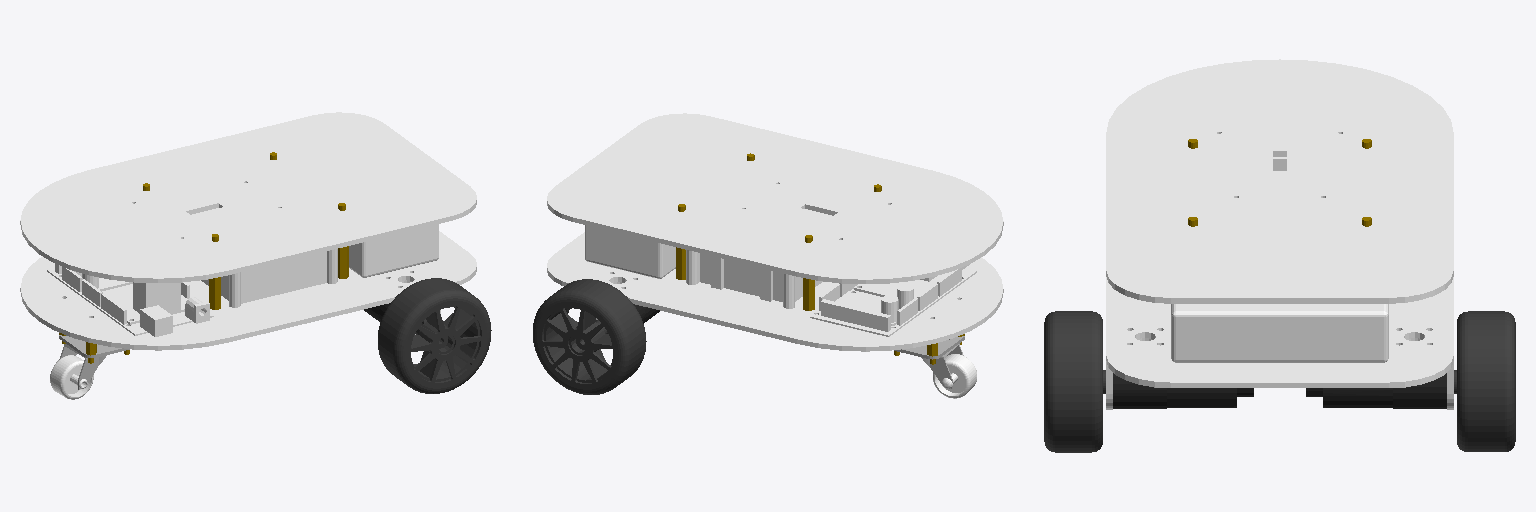
robot.urdf — qcl:
<?xml version="1.0" ?>
<robot
  name="qcl">
  <link
    name="base_link">
    <inertial>
      <origin
        xyz="0.04521 -0.00067608 0.013241"
        rpy="0 0 0" />
      <mass
        value="0.71026" />
      <inertia
        ixx="0.0008804"
        ixy="-4.168E-05"
        ixz="-4.9519E-05"
        iyy="0.0022413"
        iyz="2.1648E-06"
        izz="0.0029791" />
    </inertial>
    <visual>
      <origin
        xyz="0 0 0"
        rpy="0 0 0" />
      <geometry>
        <mesh
          filename="package://lesson3/meshes/base_link.STL" />
      </geometry>
      <material
        name="">
        <color
          rgba="1 1 1 0.32" />
      </material>
    </visual>
    <collision>
      <origin
        xyz="0 0 0"
        rpy="0 0 0" />
      <geometry>
        <mesh
          filename="package://lesson3/meshes/base_link.STL" />
      </geometry>
    </collision>
  </link>
  
 <link name="kinect_link">
        <visual>
            <origin xyz="0.0050061 -0.00014713 -0.0014635" rpy="0 0 1.5708"/>
            <geometry>
                <mesh filename="package://lesson3/meshes/kinect.dae" />
            </geometry>
        </visual>
    </link>

    <joint name="laser_joint" type="fixed">
        <origin xyz="-0.022 0 0.078" rpy="0 0 0"/>
        <parent link="base_link"/>
        <child link="kinect_link"/>
    </joint>

<!--<link
    name="rplidar_link">
    <inertial>
      <origin
        xyz="0.0050061 -0.00014713 -0.0014635"
        rpy="0 0 0" />
      <mass
        value="0.30656" />
      <inertia
        ixx="0.00015429"
        ixy="3.4962E-07"
        ixz="1.4789E-05"
        iyy="0.00021402"
        iyz="-7.8352E-07"
        izz="0.00026079" />
    </inertial>
    <visual>
      <origin
        xyz="0 0 0"
        rpy="0 0 0" />
      <geometry>
        <mesh
          filename="package://lesson3/meshes/rplidar_link.STL" />
      </geometry>
      <material
        name="">
        <color
          rgba="0.49412 0.49412 0.49412 1" />
      </material>
    </visual>
    <collision>
      <origin
        xyz="0 0 0"
        rpy="0 0 0" />
      <geometry>
        <mesh
          filename="package://lesson3/meshes/rplidar_link.STL" />
      </geometry>
    </collision>
  </link>
  <joint
    name="rplidar_link_joint"
    type="fixed">
    <origin
      xyz="-0.022 0 0.078"
      rpy="-6.123E-17 0 0" />
    <parent
      link="base_link" />
    <child
      link="rplidar_link" />
    <axis
      xyz="0 0 0" />
  </joint>-->


  <link
    name="left_motor_link">
    <inertial>
      <origin
        xyz="-0.0044525 -4.3264E-07 1.3878E-17"
        rpy="0 0 0" />
      <mass
        value="0.20548" />
      <inertia
        ixx="1.507E-05"
        ixy="3.3294E-09"
        ixz="1.3383E-21"
        iyy="7.099E-05"
        iyz="1.3162E-25"
        izz="7.099E-05" />
    </inertial>
    <visual>
      <origin
        xyz="0 0 0"
        rpy="0 0 0" />
      <geometry>
        <mesh
          filename="package://lesson3/meshes/left_motor_link.STL" />
      </geometry>
      <material
        name="">
        <color
          rgba="0.2 0.2 0.2 1" />
      </material>
    </visual>
    <collision>
      <origin
        xyz="0 0 0"
        rpy="0 0 0" />
      <geometry>
        <mesh
          filename="package://lesson3/meshes/left_motor_link.STL" />
      </geometry>
    </collision>
  </link>
  <joint
    name="left_motor_link_joint"
    type="fixed">
    <origin
      xyz="0.08 -0.052 -0.02"
      rpy="-1.5708 -6.123E-17 -1.5708" />
    <parent
      link="base_link" />
    <child
      link="left_motor_link" />
    <axis
      xyz="0 0 0" />
  </joint>
  <link
    name="right_motor_link">
    <inertial>
      <origin
        xyz="-0.0044525 4.3259E-07 -6.8314E-09"
        rpy="0 0 0" />
      <mass
        value="0.20548" />
      <inertia
        ixx="1.507E-05"
        ixy="-3.329E-09"
        ixz="5.0684E-11"
        iyy="7.099E-05"
        iyz="-2.0772E-12"
        izz="7.099E-05" />
    </inertial>
    <visual>
      <origin
        xyz="0 0 0"
        rpy="0 0 0" />
      <geometry>
        <mesh
          filename="package://lesson3/meshes/right_motor_link.STL" />
      </geometry>
      <material
        name="">
        <color
          rgba="0.2 0.2 0.2 1" />
      </material>
    </visual>
    <collision>
      <origin
        xyz="0 0 0"
        rpy="0 0 0" />
      <geometry>
        <mesh
          filename="package://lesson3/meshes/right_motor_link.STL" />
      </geometry>
    </collision>
  </link>
  <joint
    name="right_motor_link_joint"
    type="fixed">
    <origin
      xyz="0.08 0.052 -0.02"
      rpy="1.5864 -3.261E-10 1.5708" />
    <parent
      link="base_link" />
    <child
      link="right_motor_link" />
    <axis
      xyz="0 0 0" />
  </joint>
  <link
    name="left_wheel_link">
    <inertial>
      <origin
        xyz="-1.4851E-09 0.015015 2.4566E-10"
        rpy="0 0 0" />
      <mass
        value="0.075908" />
      <inertia
        ixx="2.6258E-05"
        ixy="-9.3219E-13"
        ixz="-2.8752E-13"
        iyy="4.396E-05"
        iyz="1.6286E-13"
        izz="2.6267E-05" />
    </inertial>
    <visual>
      <origin
        xyz="0 0 0"
        rpy="0 0 0" />
      <geometry>
        <mesh
          filename="package://lesson3/meshes/left_wheel_link.STL" />
      </geometry>
      <material
        name="">
        <color
          rgba="0.29412 0.29412 0.29412 1" />
      </material>
    </visual>
    <collision>
      <origin
        xyz="0 0 0"
        rpy="0 0 0" />
      <geometry>
        <mesh
          filename="package://lesson3/meshes/left_wheel_link.STL" />
      </geometry>
    </collision>
  </link>
  <joint
    name="left_wheel_link_joint"
    type="continuous">
    <origin
      xyz="0.08 -0.0795 -0.02"
      rpy="7.1976E-17 0.55346 -3.1416" />
    <parent
      link="base_link" />
    <child
      link="left_wheel_link" />
    <axis
      xyz="0 1 0" />
  </joint>
  <link
    name="right_wheel_link">
    <inertial>
      <origin
        xyz="5.2978E-10 0.015015 -1.4089E-09"
        rpy="0 0 0" />
      <mass
        value="0.075908" />
      <inertia
        ixx="2.6264E-05"
        ixy="3.2505E-13"
        ixz="3.9746E-09"
        iyy="4.396E-05"
        iyz="-8.8873E-13"
        izz="2.626E-05" />
    </inertial>
    <visual>
      <origin
        xyz="0 0 0"
        rpy="0 0 0" />
      <geometry>
        <mesh
          filename="package://lesson3/meshes/right_wheel_link.STL" />
      </geometry>
      <material
        name="">
        <color
          rgba="0.29412 0.29412 0.29412 1" />
      </material>
    </visual>
    <collision>
      <origin
        xyz="0 0 0"
        rpy="0 0 0" />
      <geometry>
        <mesh
          filename="package://lesson3/meshes/right_wheel_link.STL" />
      </geometry>
    </collision>
  </link>
  <joint
    name="right_wheel_link_joint"
    type="continuous">
    <origin
      xyz="0.08 0.0795 -0.02"
      rpy="-6.228E-17 0.18385 -1.1386E-17" />
    <parent
      link="base_link" />
    <child
      link="right_wheel_link" />
    <axis
      xyz="0 -1 0" />
  </joint>
  <link
    name="upper_pillar_link">
    <inertial>
      <origin
        xyz="-0.0036279 0.021701 -0.05825"
        rpy="0 0 0" />
      <mass
        value="0.043866" />
      <inertia
        ixx="8.162E-05"
        ixy="-2.2701E-21"
        ixz="-4.5145E-06"
        iyy="0.00014979"
        iyz="6.5106E-21"
        izz="8.2197E-05" />
    </inertial>
    <visual>
      <origin
        xyz="0 0 0"
        rpy="0 0 0" />
      <geometry>
        <mesh
          filename="package://lesson3/meshes/upper_pillar_link.STL" />
      </geometry>
      <material
        name="">
        <color
          rgba="0.64706 0.51373 0 1" />
      </material>
    </visual>
    <collision>
      <origin
        xyz="0 0 0"
        rpy="0 0 0" />
      <geometry>
        <mesh
          filename="package://lesson3/meshes/upper_pillar_link.STL" />
      </geometry>
    </collision>
  </link>
  <joint
    name="upper_pillar_link_joint"
    type="fixed">
    <origin
      xyz="0.05 -0.04 0.003"
      rpy="1.5708 4.1893E-17 0.75349" />
    <parent
      link="base_link" />
    <child
      link="upper_pillar_link" />
    <axis
      xyz="0 0 0" />
  </joint>
  <link
    name="second_base_link">
    <inertial>
      <origin
        xyz="0.0068684 0.0015 1.2737E-17"
        rpy="0 0 0" />
      <mass
        value="0.12289" />
      <inertia
        ixx="0.00024204"
        ixy="2.3431E-22"
        ixz="-2.2464E-20"
        iyy="0.00085621"
        iyz="-9.8075E-24"
        izz="0.00061435" />
    </inertial>
    <visual>
      <origin
        xyz="0 0 0"
        rpy="0 0 0" />
      <geometry>
        <mesh
          filename="package://lesson3/meshes/second_base_link.STL" />
      </geometry>
      <material
        name="">
        <color
          rgba="1 1 1 0.32" />
      </material>
    </visual>
    <collision>
      <origin
        xyz="0 0 0"
        rpy="0 0 0" />
      <geometry>
        <mesh
          filename="package://lesson3/meshes/second_base_link.STL" />
      </geometry>
    </collision>
  </link>
  <joint
    name="second_base_link_joint"
    type="fixed">
    <origin
      xyz="-0.0090977 0.04 -0.063382"
      rpy="0 -0.75349 0" />
    <parent
      link="upper_pillar_link" />
    <child
      link="second_base_link" />
    <axis
      xyz="0 0 0" />
  </joint>
  <link
    name="down_pillar_link">
    <inertial>
      <origin
        xyz="-0.019597 -0.011183 -0.00043751"
        rpy="0 0 0" />
      <mass
        value="0.018034" />
      <inertia
        ixx="4.0649E-06"
        ixy="1.5272E-22"
        ixz="8.2969E-07"
        iyy="7.0324E-06"
        iyz="-5.4456E-22"
        izz="4.5743E-06" />
    </inertial>
    <visual>
      <origin
        xyz="0 0 0"
        rpy="0 0 0" />
      <geometry>
        <mesh
          filename="package://lesson3/meshes/down_pillar_link.STL" />
      </geometry>
      <material
        name="">
        <color
          rgba="0.64706 0.51373 0 1" />
      </material>
    </visual>
    <collision>
      <origin
        xyz="0 0 0"
        rpy="0 0 0" />
      <geometry>
        <mesh
          filename="package://lesson3/meshes/down_pillar_link.STL" />
      </geometry>
    </collision>
  </link>
  <joint
    name="down_pillar_link_joint"
    type="fixed">
    <origin
      xyz="-0.08 0.0155 0"
      rpy="1.5708 4.9241E-17 0.93431" />
    <parent
      link="base_link" />
    <child
      link="down_pillar_link" />
    <axis
      xyz="0 0 0" />
  </joint>
  <link
    name="front_wheel_base_link">
    <inertial>
      <origin
        xyz="-4.7525E-18 0.00087738 -1.3878E-17"
        rpy="0 0 0" />
      <mass
        value="0.0018063" />
      <inertia
        ixx="1.6484E-07"
        ixy="-1.1488E-23"
        ixz="-9.6935E-24"
        iyy="3.9976E-07"
        iyz="2.0239E-24"
        izz="2.3607E-07" />
    </inertial>
    <visual>
      <origin
        xyz="0 0 0"
        rpy="0 0 0" />
      <geometry>
        <mesh
          filename="package://lesson3/meshes/front_wheel_base_link.STL" />
      </geometry>
      <material
        name="">
        <color
          rgba="0.75294 0.75294 0.75294 1" />
      </material>
    </visual>
    <collision>
      <origin
        xyz="0 0 0"
        rpy="0 0 0" />
      <geometry>
        <mesh
          filename="package://lesson3/meshes/front_wheel_base_link.STL" />
      </geometry>
    </collision>
  </link>
  <joint
    name="front_wheel_base_link_joint"
    type="fixed">
    <origin
      xyz="-0.019597 -0.022 -0.00043751"
      rpy="0 0.63649 0" />
    <parent
      link="down_pillar_link" />
    <child
      link="front_wheel_base_link" />
    <axis
      xyz="0 0 0" />
  </joint>
  <link
    name="front_wheel_link">
    <inertial>
      <origin
        xyz="0.004231 -0.0034555 2.7811E-08"
        rpy="0 0 0" />
      <mass
        value="0.0014826" />
      <inertia
        ixx="1.093E-07"
        ixy="2.5801E-08"
        ixz="-1.269E-13"
        iyy="1.713E-07"
        iyz="-1.3046E-13"
        izz="1.1404E-07" />
    </inertial>
    <visual>
      <origin
        xyz="0 0 0"
        rpy="0 0 0" />
      <geometry>
        <mesh
          filename="package://lesson3/meshes/front_wheel_link.STL" />
      </geometry>
      <material
        name="">
        <color
          rgba="0.75294 0.75294 0.75294 1" />
      </material>
    </visual>
    <collision>
      <origin
        xyz="0 0 0"
        rpy="0 0 0" />
      <geometry>
        <mesh
          filename="package://lesson3/meshes/front_wheel_link.STL" />
      </geometry>
    </collision>
  </link>
  <joint
    name="front_wheel_link_joint"
    type="continuous">
    <origin
      xyz="0 0 0"
      rpy="3.1416 1.4691 3.1416" />
    <parent
      link="front_wheel_base_link" />
    <child
      link="front_wheel_link" />
    <axis
      xyz="0 1 0" />
  </joint>
  <link
    name="front_wheel">
    <inertial>
      <origin
        xyz="-0.00029981 0 0"
        rpy="0 0 0" />
      <mass
        value="0.0030592" />
      <inertia
        ixx="2.5606E-07"
        ixy="2.2334E-22"
        ixz="1.8301E-23"
        iyy="1.7174E-07"
        iyz="-4.1747E-24"
        izz="1.7174E-07" />
    </inertial>
    <visual>
      <origin
        xyz="0 0 0"
        rpy="0 0 0" />
      <geometry>
        <mesh
          filename="package://lesson3/meshes/front_wheel.STL" />
      </geometry>
      <material
        name="">
        <color
          rgba="1 1 1 1" />
      </material>
    </visual>
    <collision>
      <origin
        xyz="0 0 0"
        rpy="0 0 0" />
      <geometry>
        <mesh
          filename="package://lesson3/meshes/front_wheel.STL" />
      </geometry>
    </collision>
  </link>
  <joint
    name="front_wheel_joint"
    type="continuous">
    <origin
      xyz="0.017 -0.01801 0"
      rpy="-1.6378 1.5708 0.0099499" />
    <parent
      link="front_wheel_link" />
    <child
      link="front_wheel" />
    <axis
      xyz="1 0 0" />
  </joint>
</robot>

--- Render facts (derived) ---
3 views of the same robot in one strip: view 1: azimuth 30°, elevation 25°; view 2: azimuth 150°, elevation 25°; view 3: azimuth 270°, elevation 25° (orthographic).
Robot: qcl — 12 links, 11 joints (4 continuous, 7 fixed); root link base_link; default pose: every joint at zero.
Links seen in each view (by area): view 1: second_base_link, base_link, left_wheel_link, front_wheel, upper_pillar_link, front_wheel_base_link; view 2: second_base_link, base_link, right_wheel_link, front_wheel, upper_pillar_link, front_wheel_base_link; view 3: second_base_link, base_link, left_wheel_link, right_wheel_link, left_motor_link, right_motor_link.
Link boxes in pixels (box(x1,y1,x2,y2)): second_base_link: box(20, 112, 476, 282); base_link: box(20, 208, 476, 350); left_wheel_link: box(378, 278, 491, 393); front_wheel: box(50, 355, 93, 399); upper_pillar_link: box(143, 152, 348, 309); front_wheel_base_link: box(59, 335, 129, 357); second_base_link: box(547, 113, 1003, 283); base_link: box(547, 209, 1003, 351); right_wheel_link: box(533, 279, 646, 394); front_wheel: box(933, 354, 976, 398); upper_pillar_link: box(676, 153, 881, 310); front_wheel_base_link: box(894, 336, 964, 359); second_base_link: box(1106, 59, 1453, 303); base_link: box(1106, 157, 1453, 409); left_wheel_link: box(1044, 311, 1105, 452); right_wheel_link: box(1454, 311, 1515, 451); left_motor_link: box(1113, 373, 1253, 408); right_motor_link: box(1306, 373, 1446, 408).
Size in the robot's own frame: 0.26 by 0.217 by 0.1015 metres.
Meshes: 12 distinct files referenced, 11 mesh visuals loaded (11 binary STL); not drawn: 1 (reference not matched to a file when rendering).